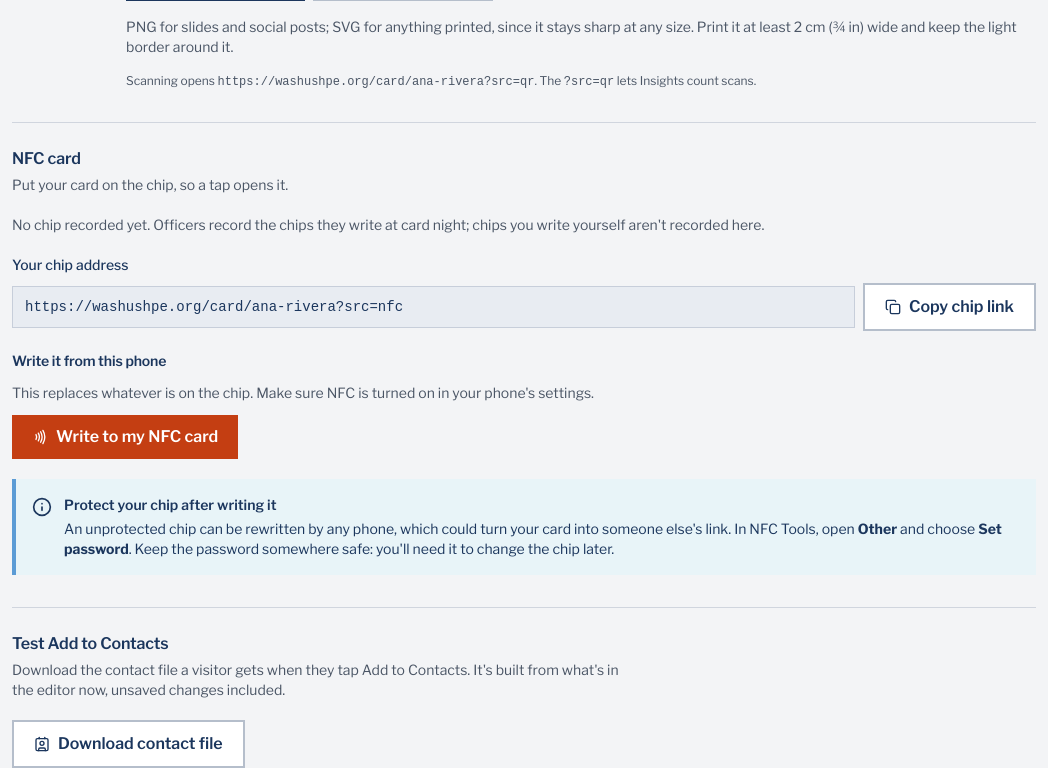
Scenario: ShareTab: NFC › shows why a write failed
(page scrolled)
Click the button "Write to my NFC card": (125, 437) [12,415,238,459]
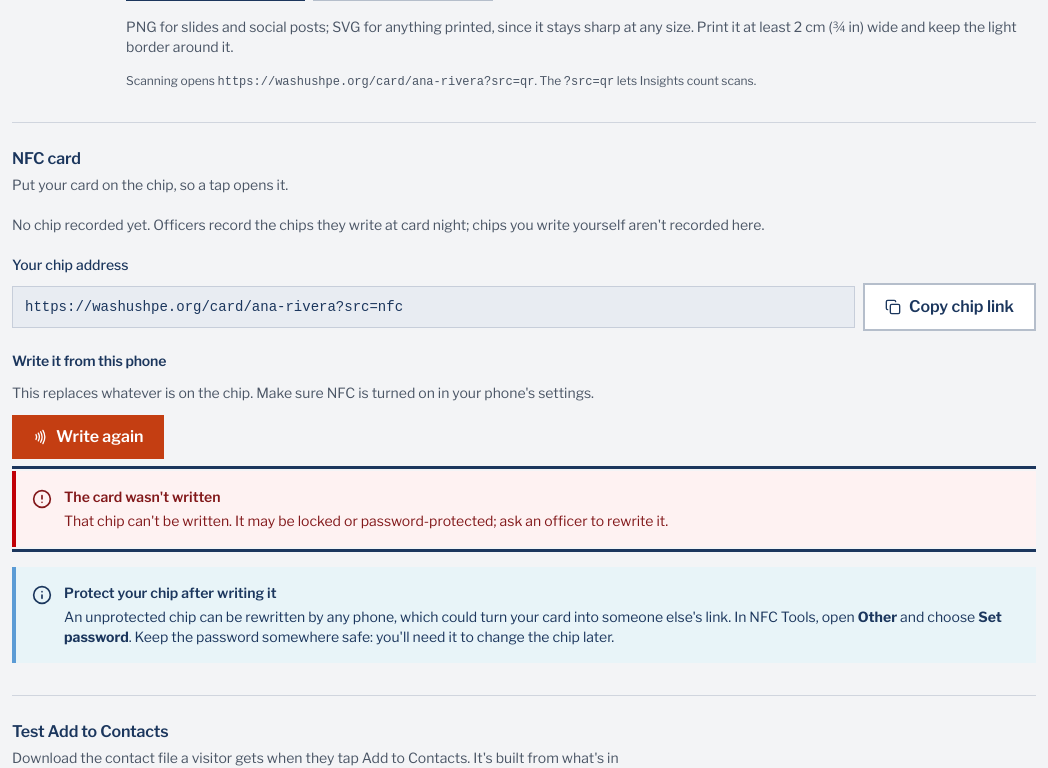
Check: the text "The card wasn't written" is shown, box [64,488,221,505]
Check: the text "It may be locked or password-protected" is shown, box [64,512,668,529]
